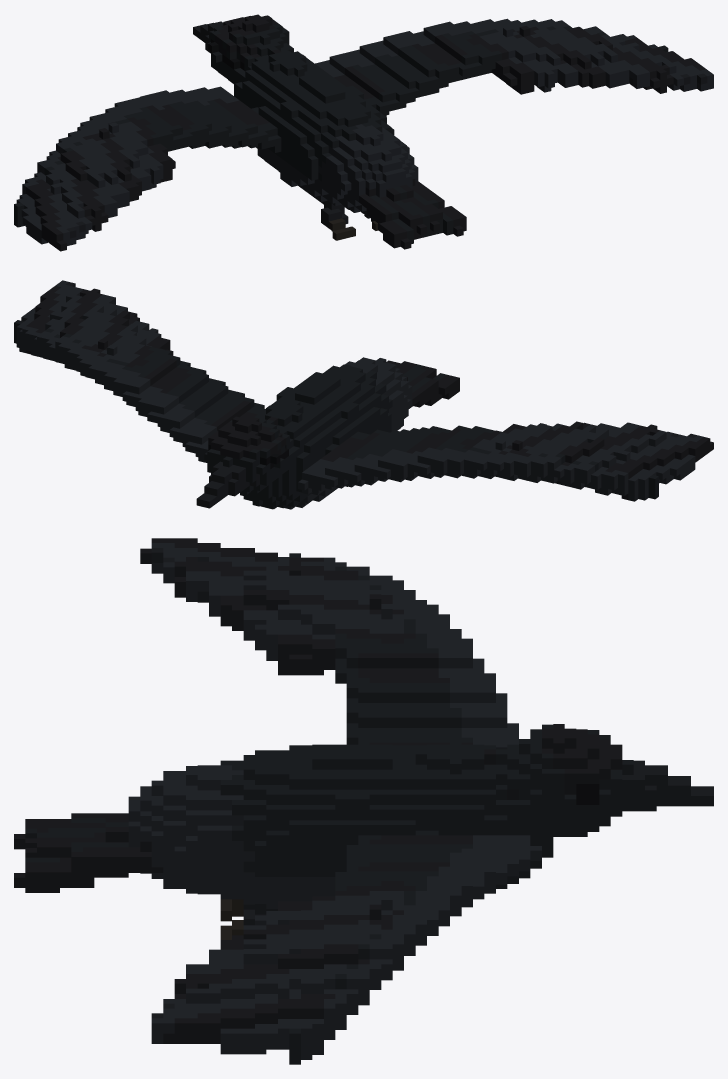
File: crow.obj
3 views of the same model, one above another, from view 1: azimuth 30°, elevation 25°; view 2: azimuth 150°, elevation 25°; view 3: azimuth 270°, elevation 25° (orthographic). The views are drawn at different scales.
Bounding box in the file's own units: 10 × 1.9 × 6.1.
1 material, 1 textured.
